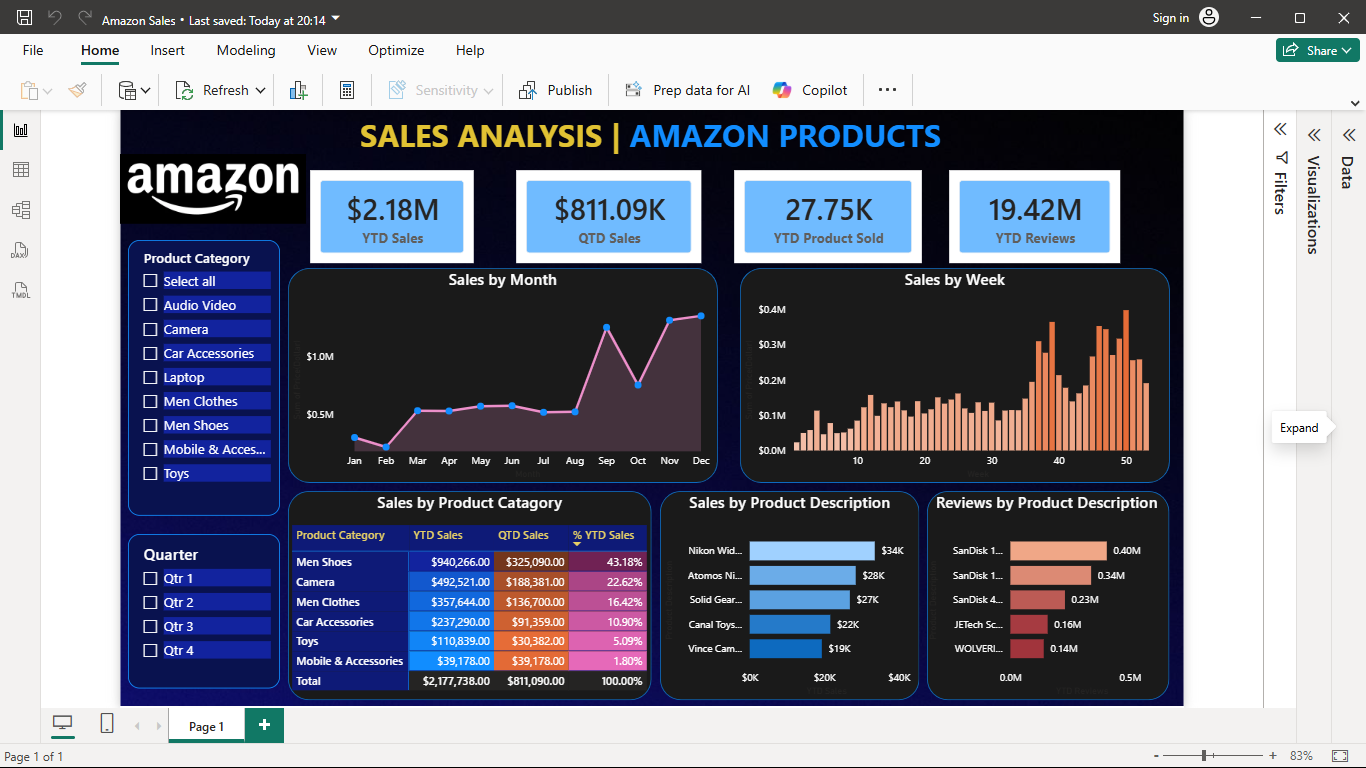

This screenshot's page, from the dashboard's own definition file:
{"tool":"powerbi","page":{"name":"Page 1","canvas":[1280,720],"ordinal":0},"visuals":[{"type":"textbox","box":[262.9,0,752.9,67.4],"z":0},{"type":"cardVisual","fields":{"Data":["Amazon_Data.YTD Sales"]},"box":[224.3,67.4,207.8,122.5],"z":1000},{"type":"cardVisual","fields":{"Data":["Amazon_Data.QTD Sales"]},"box":[472.1,67.4,234,122.5],"z":2000},{"type":"cardVisual","fields":{"Data":["Amazon_Data.YTD Product Sold"]},"box":[735,67.4,236.7,122.5],"z":3000},{"type":"cardVisual","fields":{"Data":["Amazon_Data.YTD Reviews"]},"box":[993.7,67.4,216.1,122.5],"z":4000},{"type":"shape","title":"SALES ANALYSIS | AMAZON PRODUCTS","box":[202.3,189.9,517.5,258.8],"z":5000},{"type":"areaChart","title":"Sales by Month","fields":{"Category":["Date Table.Month"],"Y":["Sum(Amazon_Data.Price(Dollar))"]},"box":[202.3,189.9,517.5,258.8],"z":6000},{"type":"shape","title":"SALES ANALYSIS | AMAZON PRODUCTS","box":[746,189.9,517.5,258.8],"z":7000},{"type":"columnChart","title":"Sales by Week","fields":{"Category":["Date Table.Week"],"Y":["Sum(Amazon_Data.Price(Dollar))"]},"box":[746,189.9,517.5,258.8],"z":8000},{"type":"shape","title":"SALES ANALYSIS | AMAZON PRODUCTS","box":[202.3,458.3,437.7,251.9],"z":9000},{"type":"pivotTable","title":"Sales by Product Catagory","fields":{"Rows":["Amazon_Data.Product Category"],"Values":["Amazon_Data.YTD Sales1","Amazon_Data.QTD Sales","Amazon_Data.YTD Sales"]},"box":[202.3,458.3,437.7,251.9],"z":10000},{"type":"shape","title":"SALES ANALYSIS | AMAZON PRODUCTS","box":[649.6,458.3,312.4,251.9],"z":11000},{"type":"shape","title":"SALES ANALYSIS | AMAZON PRODUCTS","box":[971.7,458.3,291.8,251.9],"z":12000},{"type":"barChart","title":"Sales by Product Description","fields":{"Category":["Amazon_Data.Product Description"],"Y":["Amazon_Data.YTD Sales"]},"box":[649.6,458.3,312.4,251.9],"z":13000},{"type":"barChart","title":"Reviews by Product Description","fields":{"Category":["Amazon_Data.Product Description"],"Y":["Amazon_Data.YTD Reviews"]},"box":[967.6,458.3,295.9,251.9],"z":14000},{"type":"image","box":[0,0,224.3,189.9],"z":15000},{"type":"slicer","fields":{"Values":["Amazon_Data.Product Category"]},"box":[9.6,156.9,183.1,331.7],"z":16000},{"type":"slicer","fields":{"Values":["Date Table.Quarter"]},"box":[9.6,510.6,183.1,185.8],"z":17000}]}

Visuals, with their boxes on the page's 1280x720 design canvas (x1, y1, x2, y2). These are canvas units, not pixel positions in the 1366x768 screenshot, which may show the page scaled, cropped or inside an application window:
textbox: bbox=[263, 0, 1016, 67]
cardVisual - Amazon_Data.YTD Sales: bbox=[224, 67, 432, 190]
cardVisual - Amazon_Data.QTD Sales: bbox=[472, 67, 706, 190]
cardVisual - Amazon_Data.YTD Product Sold: bbox=[735, 67, 972, 190]
cardVisual - Amazon_Data.YTD Reviews: bbox=[994, 67, 1210, 190]
"SALES ANALYSIS | AMAZON PRODUCTS" shape: bbox=[202, 190, 720, 449]
"Sales by Month" areaChart: bbox=[202, 190, 720, 449]
"SALES ANALYSIS | AMAZON PRODUCTS" shape: bbox=[746, 190, 1264, 449]
"Sales by Week" columnChart: bbox=[746, 190, 1264, 449]
"SALES ANALYSIS | AMAZON PRODUCTS" shape: bbox=[202, 458, 640, 710]
"Sales by Product Catagory" pivotTable: bbox=[202, 458, 640, 710]
"SALES ANALYSIS | AMAZON PRODUCTS" shape: bbox=[650, 458, 962, 710]
"SALES ANALYSIS | AMAZON PRODUCTS" shape: bbox=[972, 458, 1264, 710]
"Sales by Product Description" barChart: bbox=[650, 458, 962, 710]
"Reviews by Product Description" barChart: bbox=[968, 458, 1264, 710]
image: bbox=[0, 0, 224, 190]
slicer - Amazon_Data.Product Category: bbox=[10, 157, 193, 489]
slicer - Date Table.Quarter: bbox=[10, 511, 193, 696]
